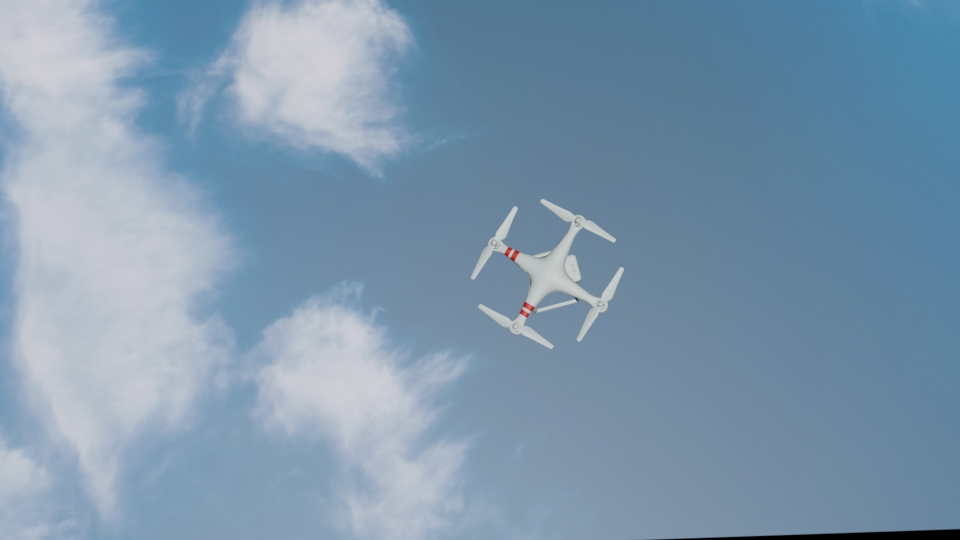drone: (473, 196, 627, 348)
